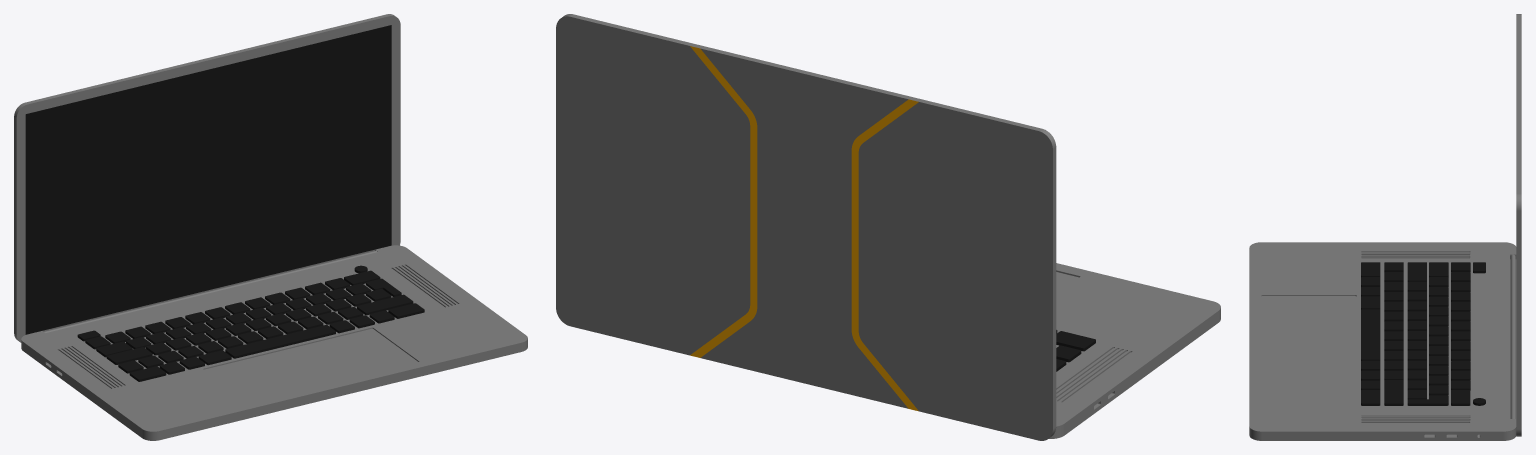
Rendered from computer.glb.
3 renders of one model, left to right at view 1: azimuth 30°, elevation 25°; view 2: azimuth 150°, elevation 25°; view 3: azimuth 270°, elevation 25°, orthographic. The views are drawn at different scales.
Visible parts, largest first — view 1: screen(2B5DC37F-73D4-4D97-BFA0-5268A5E43F1C), body(FF7CF96A-1C77-44EF-BCF4-0B161E8C2585), body(289AFD6F-1BF7-46B2-8DE1-0685527542C0), body(982930F0-4C66-45F8-9634-8E3C9105F4FB), body(6ABA5753-7090-432E-8F7F-B3A0950B680B), body(D84D3D9A-97AF-4AC0-8B68-5F1FA24A94D4), keyboard(48130144-F411-406C-A12C-8B0AC63D6997), roll(3AF41FC7-C337-47CA-8F8A-009C9FF031A2), keyboard(8B63A657-0CE5-4C84-8B5B-C2F3974F4F5B); view 2: body(F109C886-BA63-4E08-BFE2-CCD12957DB72), body(905B84B6-48B6-489D-8949-BD4C650FEB3E), body(FE6C9851-66F8-49FF-96E9-B0BE000F7567), body(FF7CF96A-1C77-44EF-BCF4-0B161E8C2585), body(D84D3D9A-97AF-4AC0-8B68-5F1FA24A94D4), linee-back(6CC7D953-21AC-4F53-A420-6C9B10A658C1), linee-back(DB127479-E3D2-476C-B414-CA1227DE763D), body(6ABA5753-7090-432E-8F7F-B3A0950B680B); view 3: body(FF7CF96A-1C77-44EF-BCF4-0B161E8C2585), body(982930F0-4C66-45F8-9634-8E3C9105F4FB), body(6ABA5753-7090-432E-8F7F-B3A0950B680B), body(D84D3D9A-97AF-4AC0-8B68-5F1FA24A94D4), keyboard(48130144-F411-406C-A12C-8B0AC63D6997), roll(3AF41FC7-C337-47CA-8F8A-009C9FF031A2), keyboard(8B63A657-0CE5-4C84-8B5B-C2F3974F4F5B), keyboard(D59522C4-7FCE-4BA2-ADF0-7FA1EC14A06C), keyboard(8D4EAAB1-0746-4402-B5FB-BAFFE3B4D5D7), keyboard(A03C7719-B594-4B5B-A88D-24106DF7CBBA), keyboard(21225560-3D5E-4122-9683-9340D47560EE), keyboard(4BFA1D30-9BA0-4D5E-9338-E607C84E3792) (+2 smaller).
Part boxes in pixels (x1,y1,x2,y2): screen(2B5DC37F-73D4-4D97-BFA0-5268A5E43F1C): [25, 25, 391, 334]; body(FF7CF96A-1C77-44EF-BCF4-0B161E8C2585): [21, 245, 527, 431]; body(289AFD6F-1BF7-46B2-8DE1-0685527542C0): [16, 16, 400, 342]; body(982930F0-4C66-45F8-9634-8E3C9105F4FB): [203, 327, 419, 402]; body(6ABA5753-7090-432E-8F7F-B3A0950B680B): [21, 250, 527, 440]; body(D84D3D9A-97AF-4AC0-8B68-5F1FA24A94D4): [14, 14, 395, 341]; keyboard(48130144-F411-406C-A12C-8B0AC63D6997): [225, 325, 335, 358]; roll(3AF41FC7-C337-47CA-8F8A-009C9FF031A2): [44, 250, 377, 332]; keyboard(8B63A657-0CE5-4C84-8B5B-C2F3974F4F5B): [357, 294, 413, 315]; body(F109C886-BA63-4E08-BFE2-CCD12957DB72): [858, 102, 1052, 440]; body(905B84B6-48B6-489D-8949-BD4C650FEB3E): [556, 16, 750, 355]; body(FE6C9851-66F8-49FF-96E9-B0BE000F7567): [701, 48, 908, 408]; body(FF7CF96A-1C77-44EF-BCF4-0B161E8C2585): [1056, 263, 1220, 426]; body(D84D3D9A-97AF-4AC0-8B68-5F1FA24A94D4): [562, 14, 1056, 437]; linee-back(6CC7D953-21AC-4F53-A420-6C9B10A658C1): [690, 46, 757, 357]; linee-back(DB127479-E3D2-476C-B414-CA1227DE763D): [851, 99, 918, 411]; body(6ABA5753-7090-432E-8F7F-B3A0950B680B): [1049, 308, 1220, 438]; body(FF7CF96A-1C77-44EF-BCF4-0B161E8C2585): [1249, 242, 1516, 431]; body(982930F0-4C66-45F8-9634-8E3C9105F4FB): [1261, 295, 1356, 378]; body(6ABA5753-7090-432E-8F7F-B3A0950B680B): [1249, 254, 1516, 440]; body(D84D3D9A-97AF-4AC0-8B68-5F1FA24A94D4): [1516, 14, 1521, 436]; keyboard(48130144-F411-406C-A12C-8B0AC63D6997): [1361, 309, 1380, 360]; roll(3AF41FC7-C337-47CA-8F8A-009C9FF031A2): [1510, 254, 1515, 418]; keyboard(8B63A657-0CE5-4C84-8B5B-C2F3974F4F5B): [1384, 380, 1403, 405]; keyboard(D59522C4-7FCE-4BA2-ADF0-7FA1EC14A06C): [1407, 262, 1426, 281]; keyboard(8D4EAAB1-0746-4402-B5FB-BAFFE3B4D5D7): [1407, 395, 1448, 405]; keyboard(A03C7719-B594-4B5B-A88D-24106DF7CBBA): [1361, 390, 1380, 405]; keyboard(21225560-3D5E-4122-9683-9340D47560EE): [1451, 390, 1470, 405]; keyboard(4BFA1D30-9BA0-4D5E-9338-E607C84E3792): [1429, 262, 1448, 277].
Bounding box in the file's own units: 0.346 × 0.208 × 0.21.
